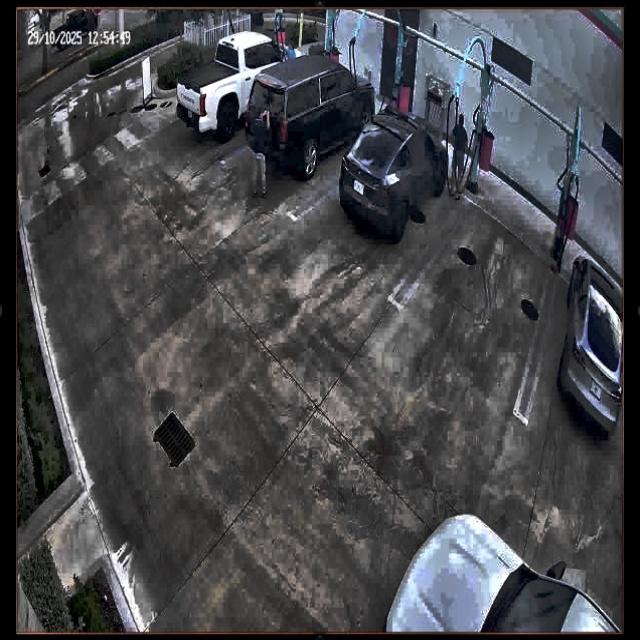Car: (247, 52, 374, 175), (340, 114, 449, 242)
